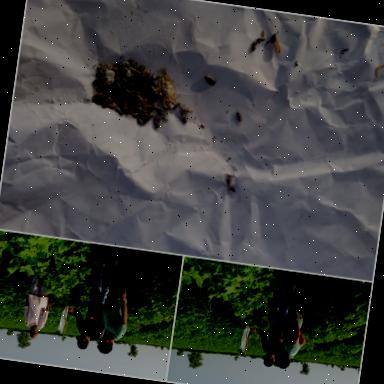pbw: (154, 70, 182, 112)
